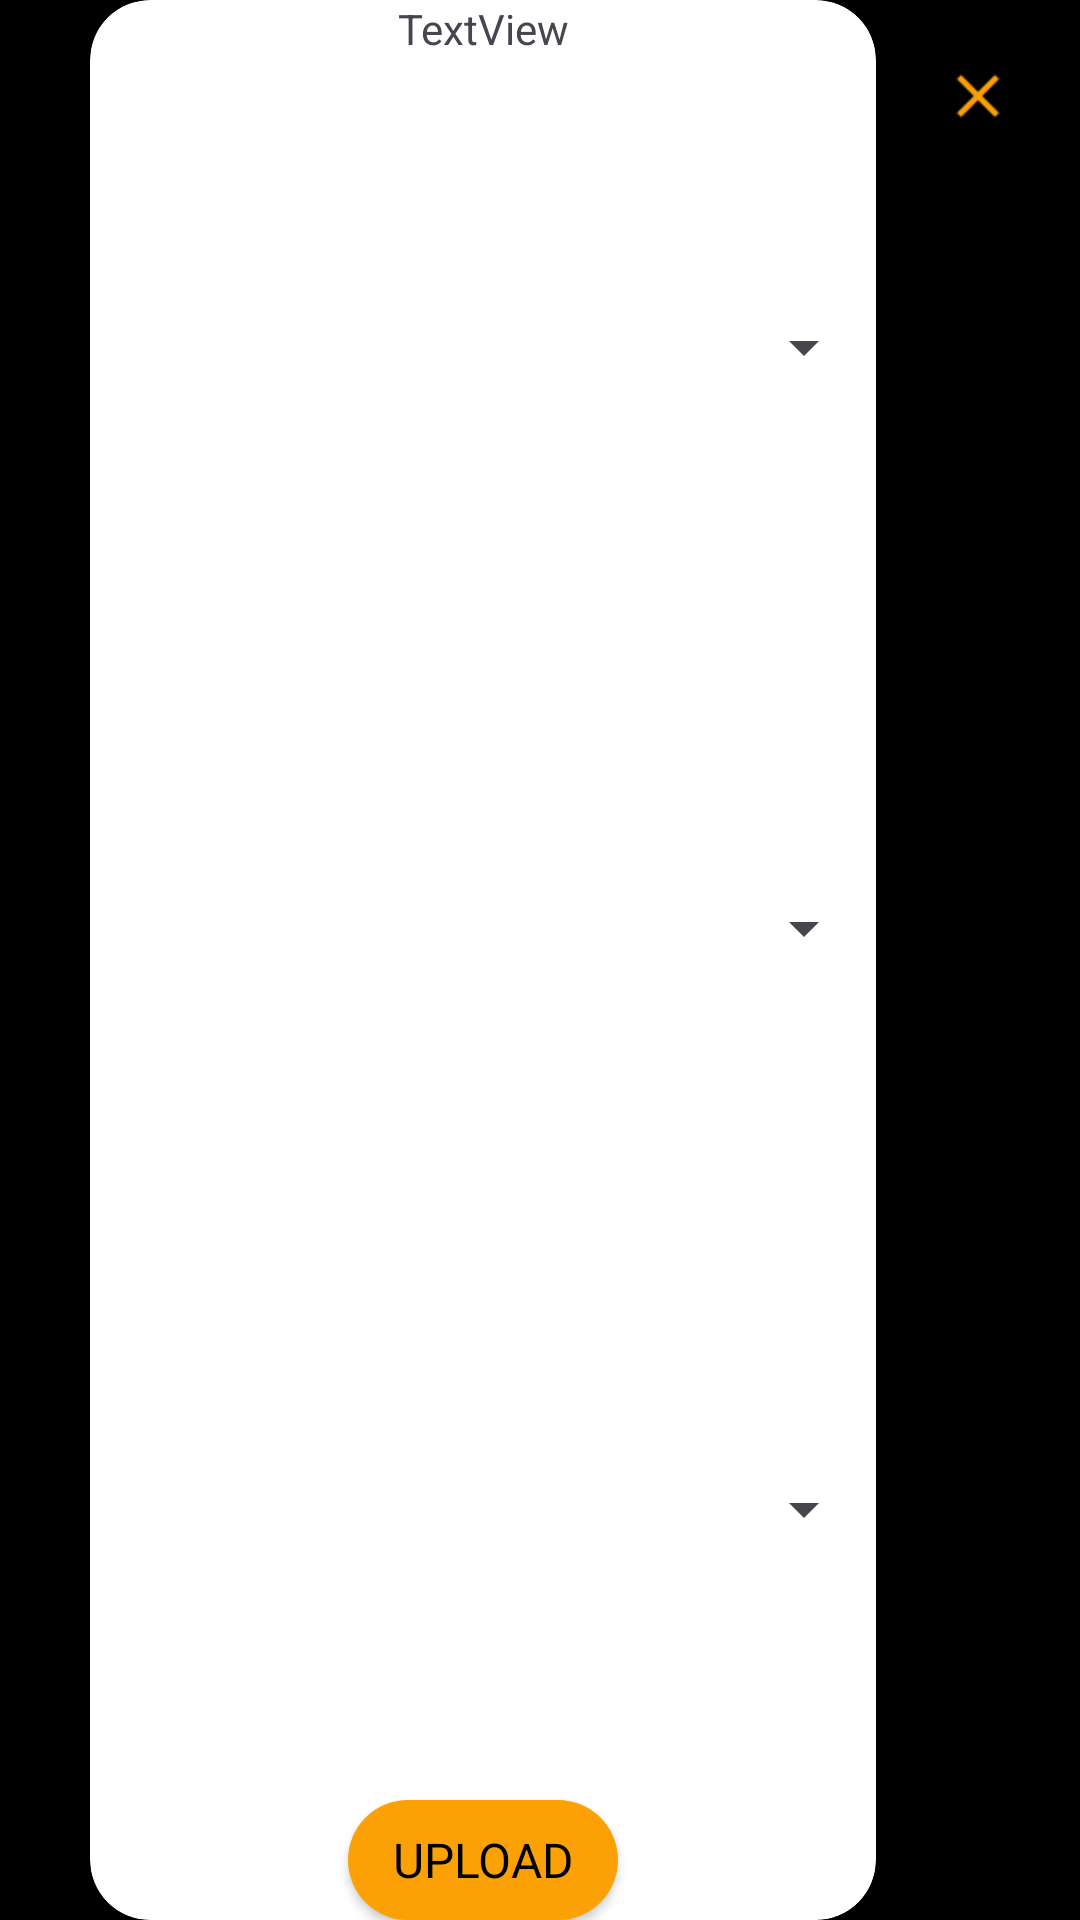

Named icons in this screenshot (1080 x 1920) and their bounding boxes, (x1, y1, x2, y2):
filter textbooks close options: (956, 74, 1000, 118)
